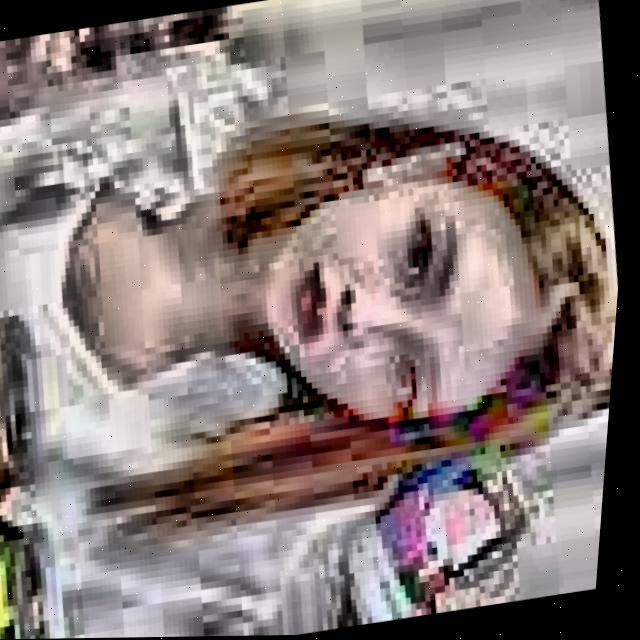metal: (308, 424, 588, 632)
